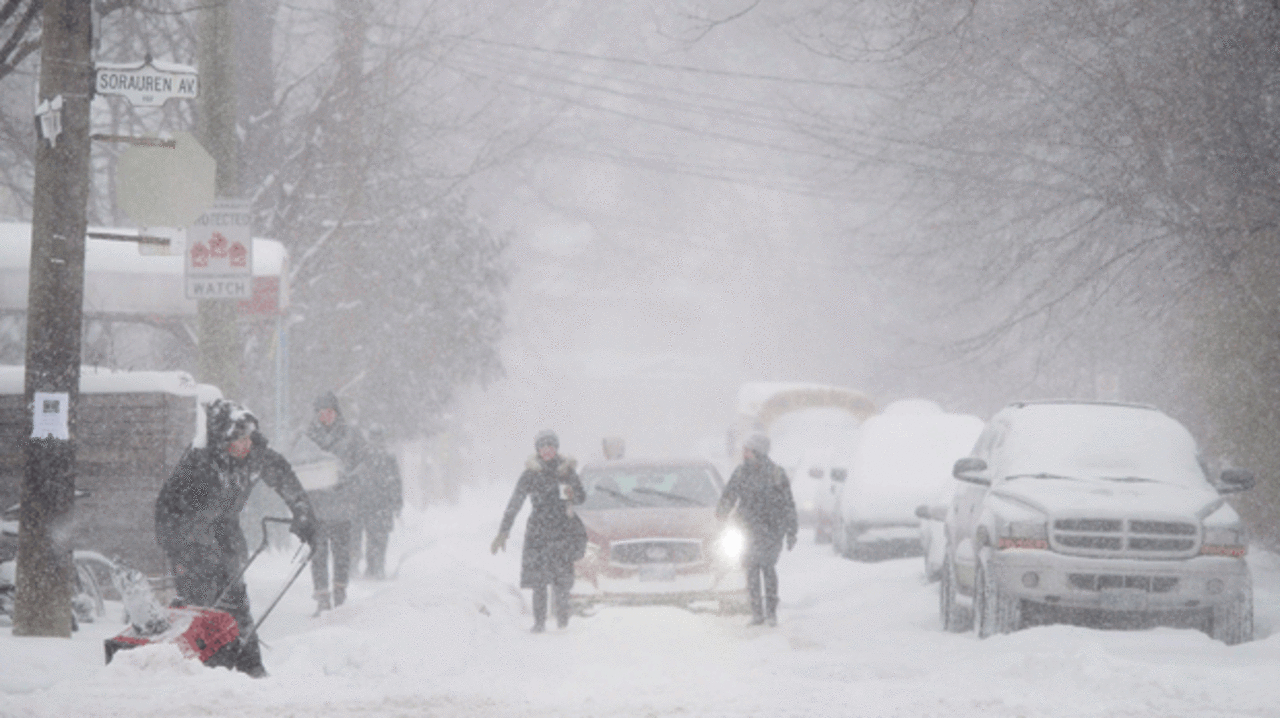car: (938, 401, 1255, 641), (572, 465, 758, 613), (833, 401, 984, 562), (735, 387, 867, 530)
person: (137, 398, 321, 661), (497, 434, 596, 629), (709, 433, 795, 618), (288, 387, 349, 608), (359, 421, 407, 584)
